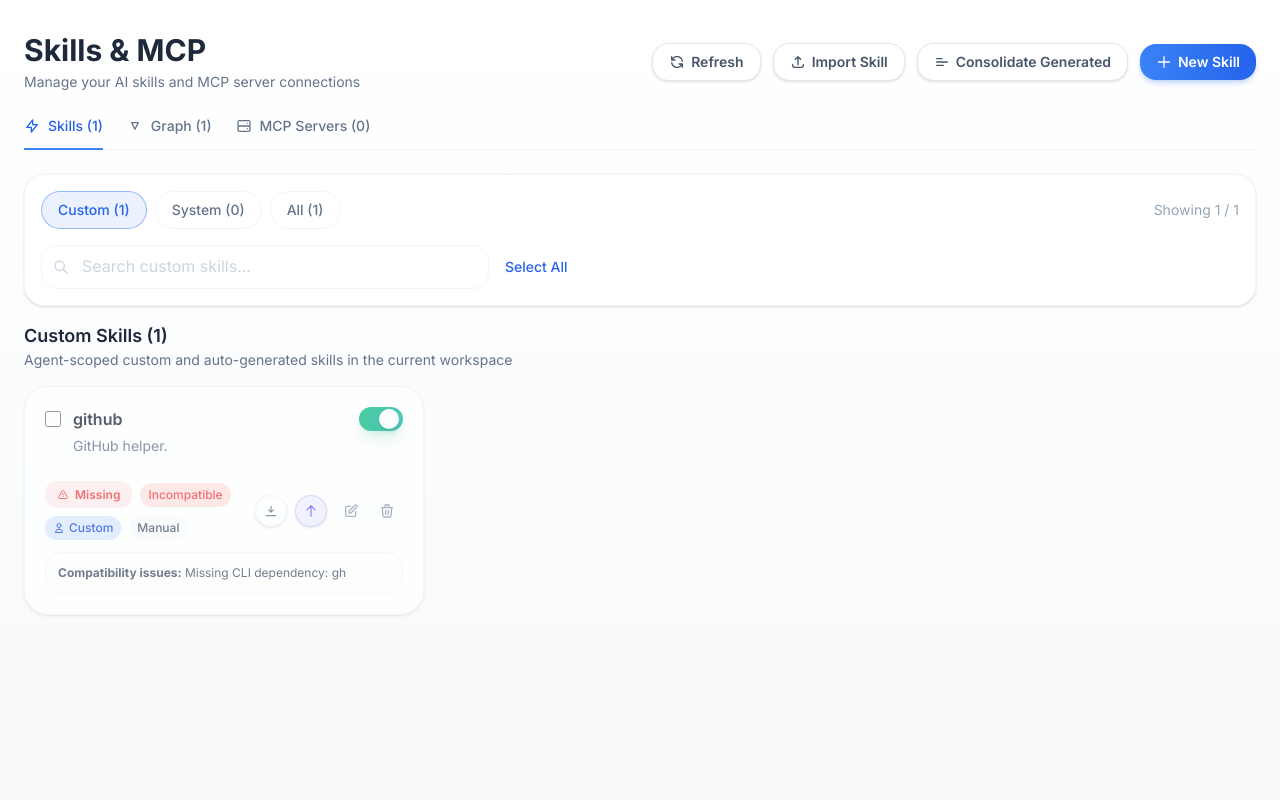
it: SkillsPage › shows missing requirement details on hover and toggles them on click
Expected: the text "Install GitHub CLI (brew)" is not shown
Hover over the button with test id "skill-missing-toggle-github": coordinates (89, 495) [45,481,132,508]
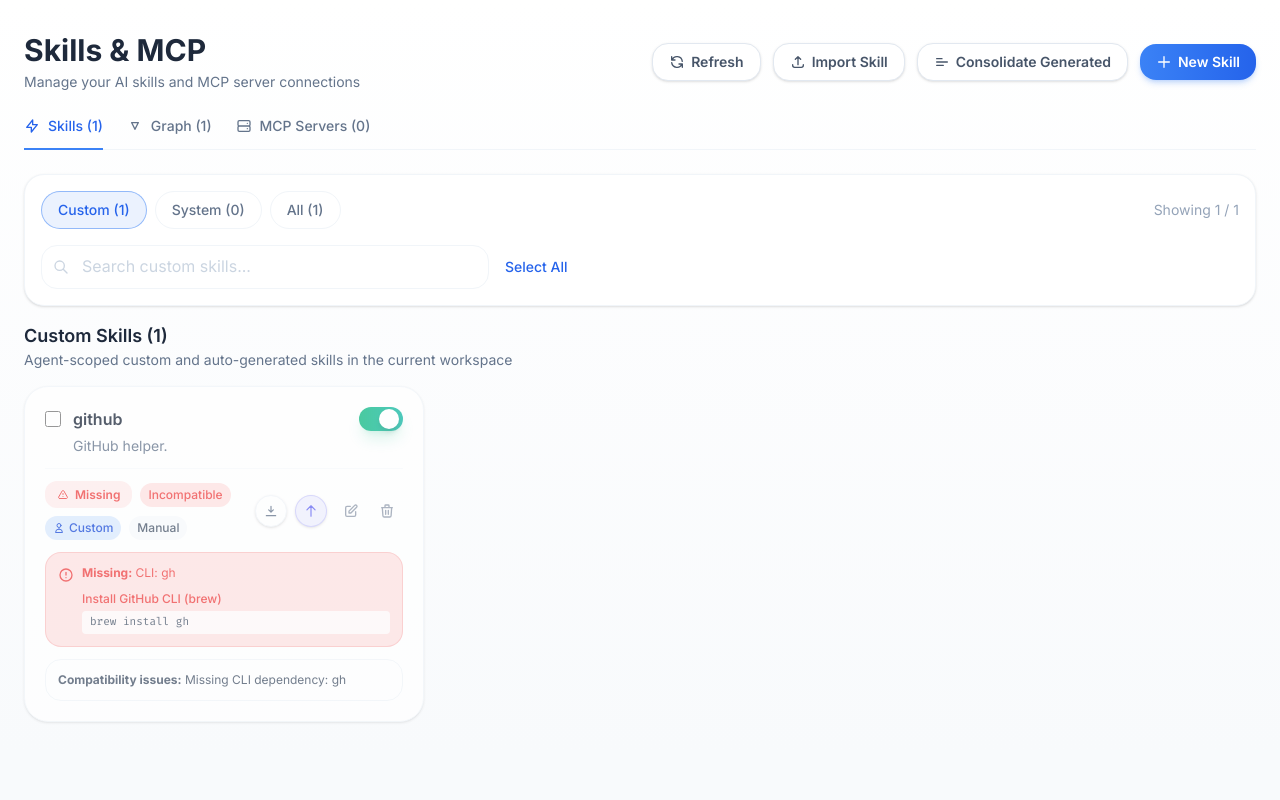
Expected: the text "Install GitHub CLI (brew)" is shown, [82,591,222,606]
Move the pointer off the button with test id "skill-missing-toggle-github", box [45,481,132,508]
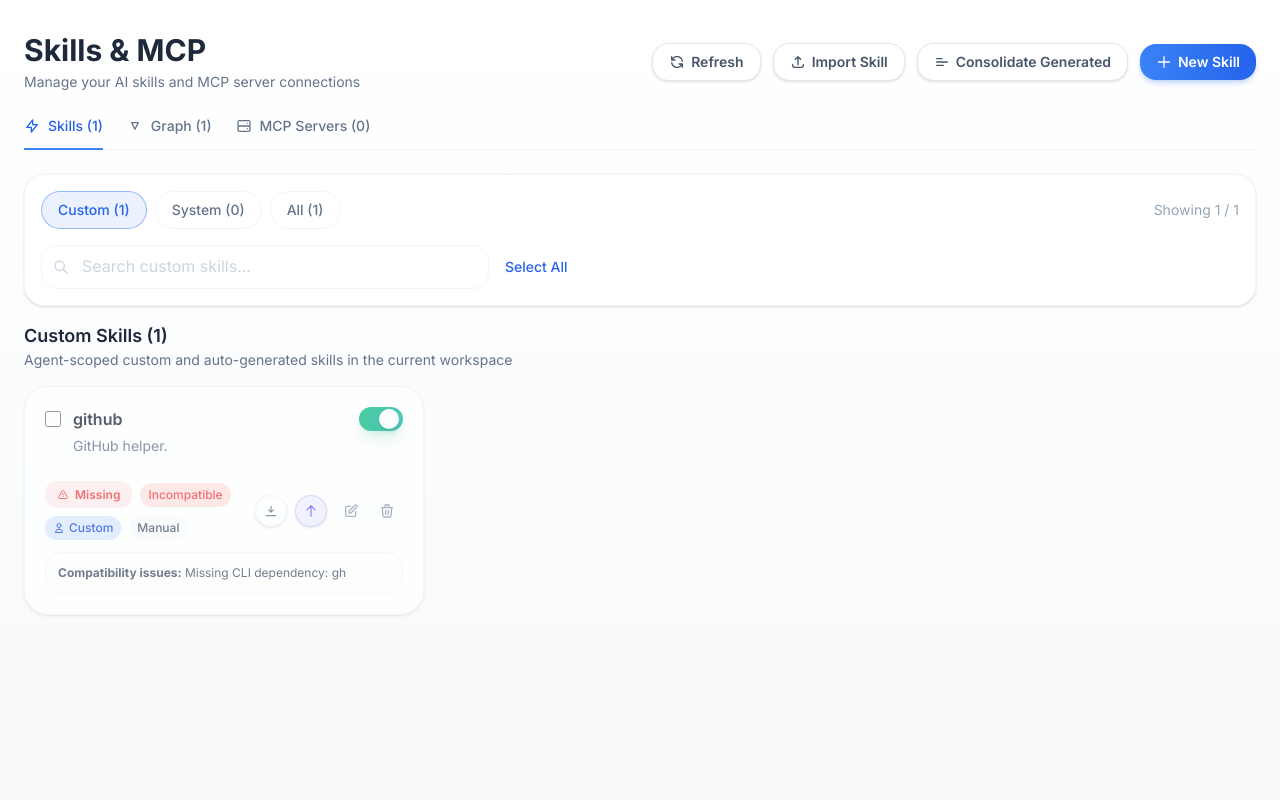
Expected: the text "Install GitHub CLI (brew)" is gone
Click the button with test id "skill-missing-toggle-github": coordinates (89, 495) [45,481,132,508]
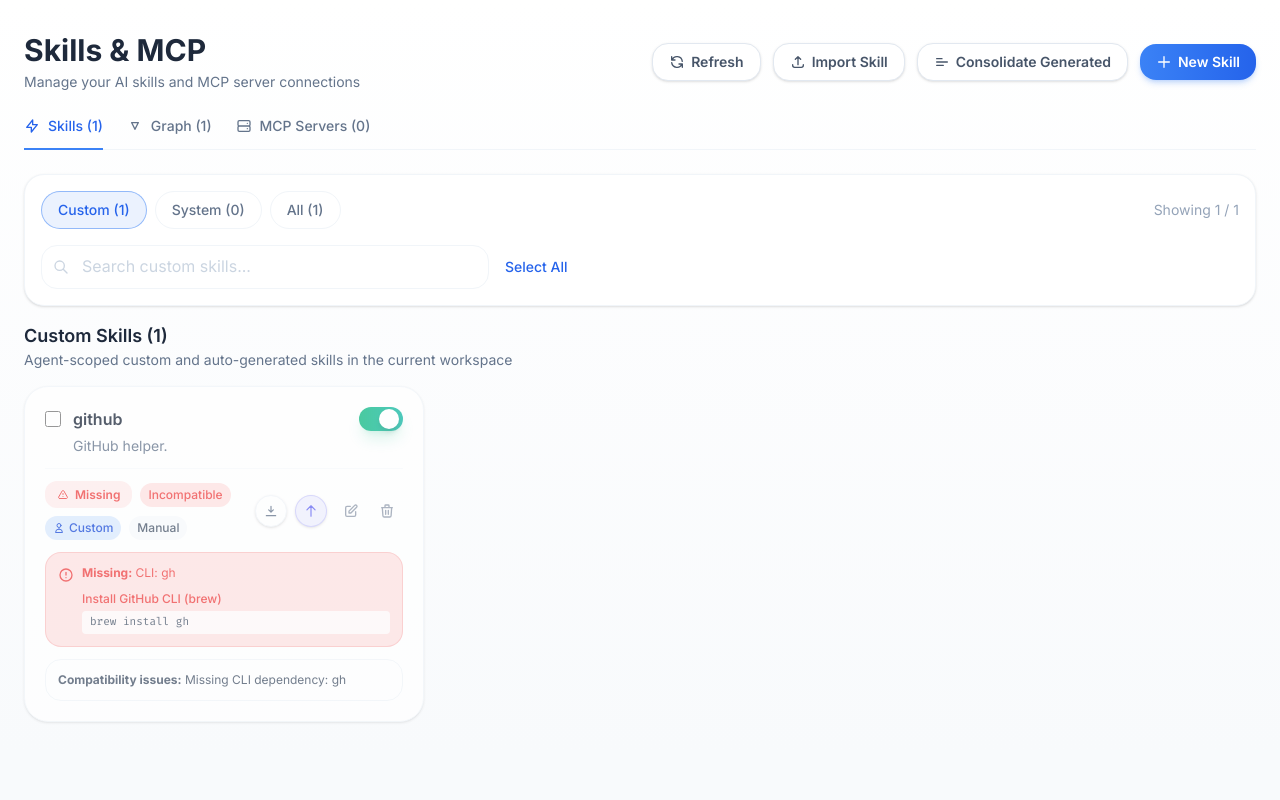
Expected: the text "Install GitHub CLI (brew)" is shown, [82,591,222,606]
Click the button with test id "skill-missing-toggle-github": coordinates (89, 495) [45,481,132,508]
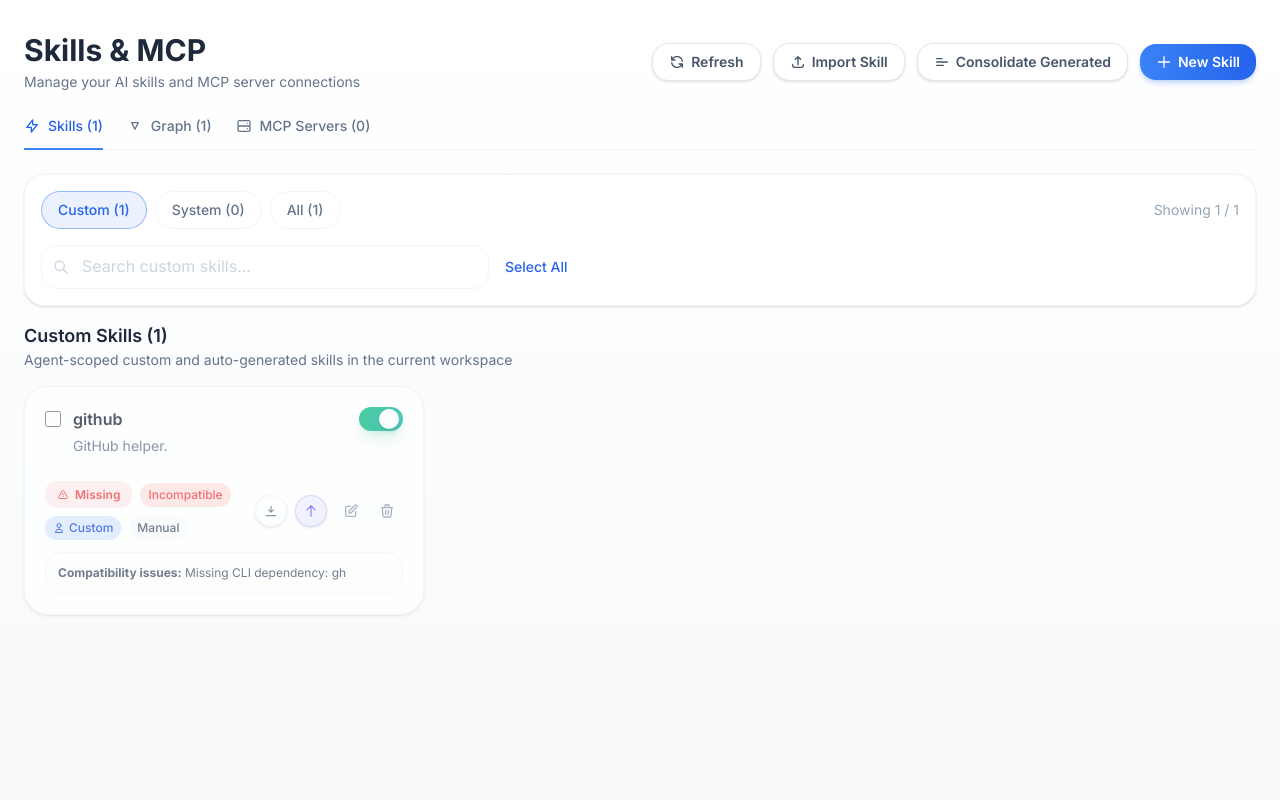
Expected: the text "Install GitHub CLI (brew)" is gone
